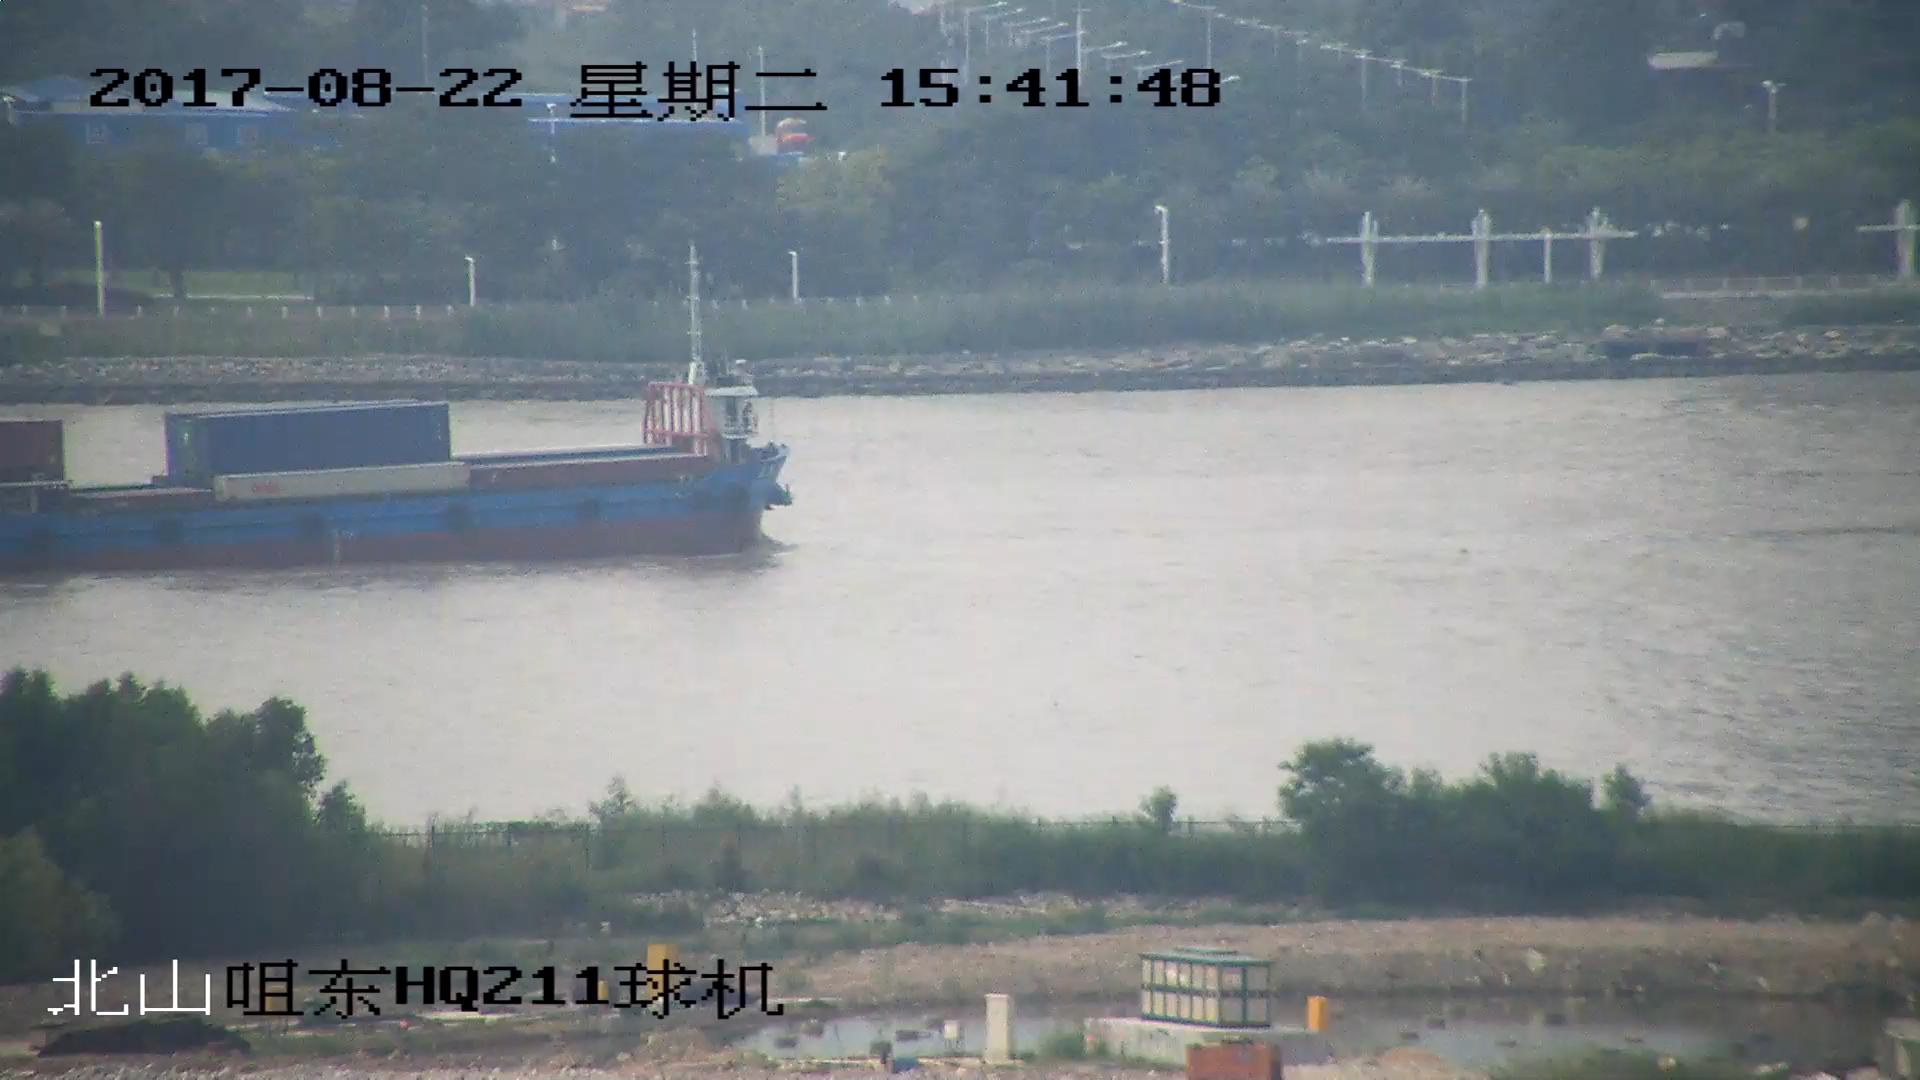container ship: (1, 256, 791, 560)
